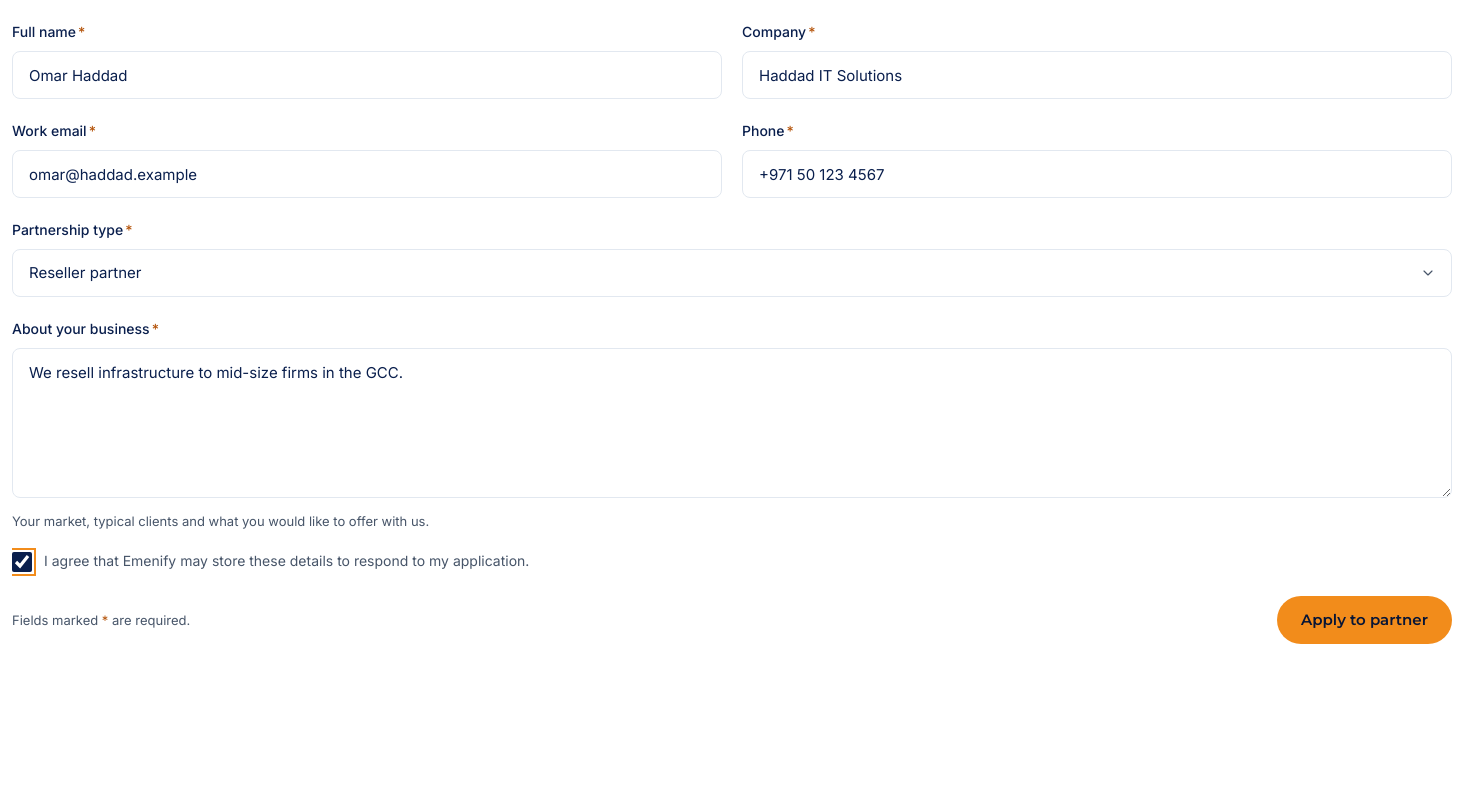
it: PartnershipForm › does not send when the honeypot is filled
Earlier steps of the test are not shown.
Click the button "Apply to partner": (1364, 620) [1277, 596, 1452, 644]
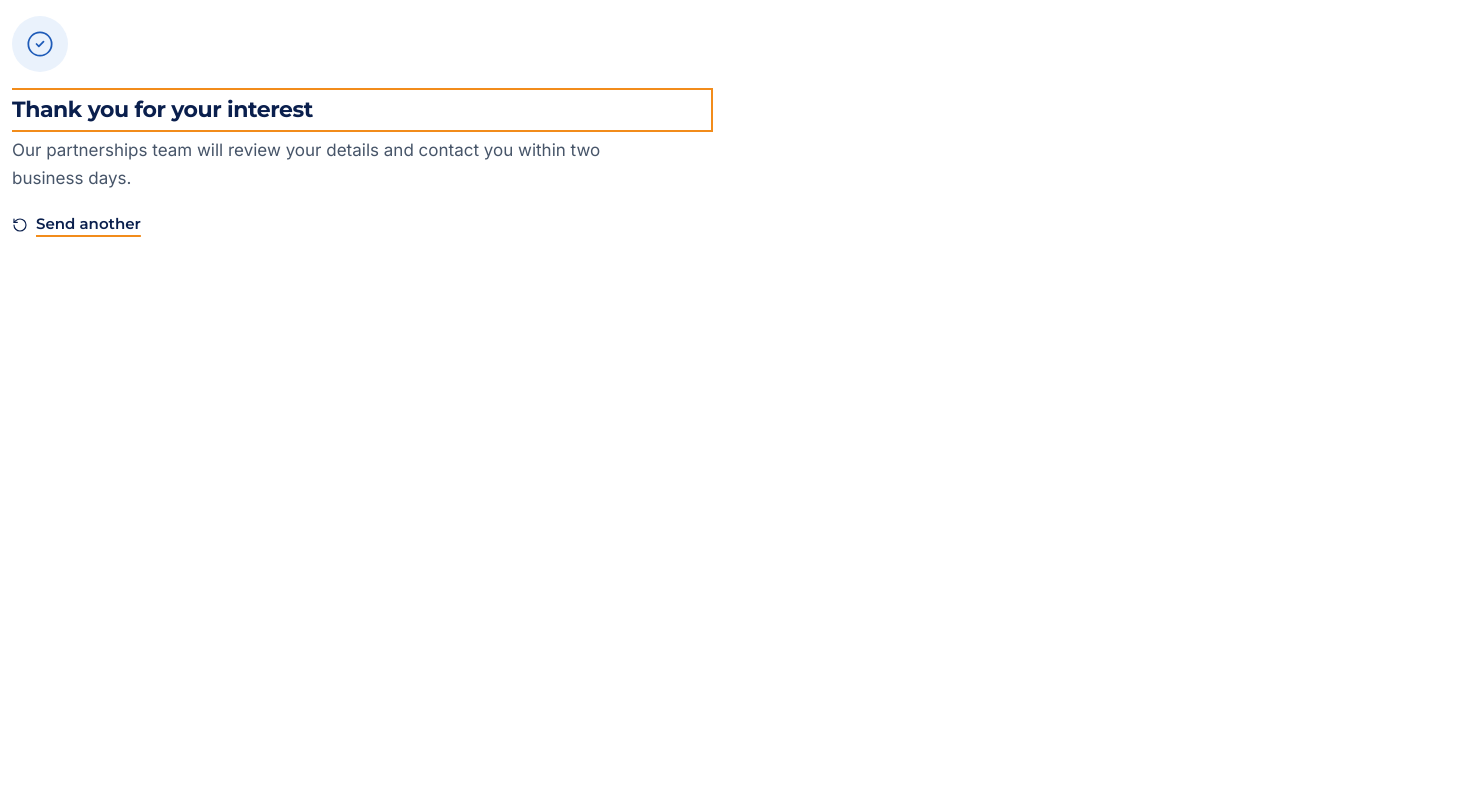
Check: the heading "Thank you for your interest" is shown, box [12, 92, 709, 128]
